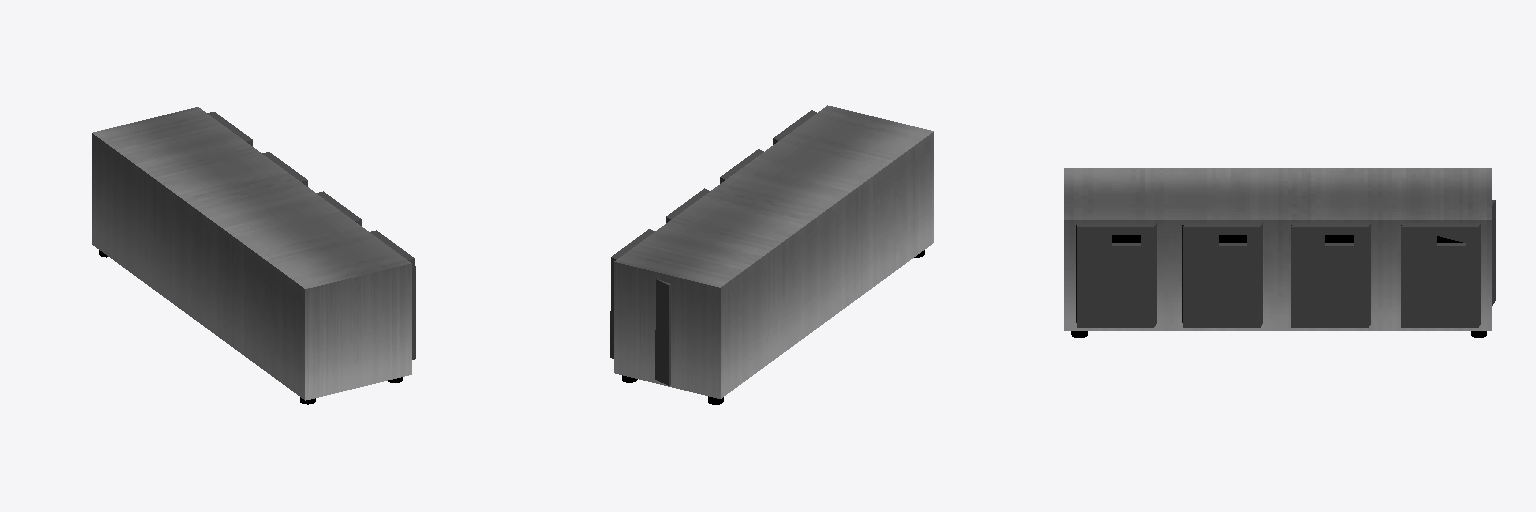
3 views of the same model, side by side, from view 1: azimuth 30°, elevation 25°; view 2: azimuth 150°, elevation 25°; view 3: azimuth 270°, elevation 25° (orthographic).
Visible parts, largest first — view 1: Cube_Cube.002, Cube.001_Cube.009; view 2: Cube_Cube.002, Cube.004_Cube.006; view 3: Cube_Cube.002, Cube.004_Cube.006, Cube.003_Cube.005, Cube.005_Cube.007, Cube.001_Cube.009.
Part boxes in pixels (bbox=[...]): Cube_Cube.002: bbox=[92, 107, 411, 400]; Cube.001_Cube.009: bbox=[370, 230, 415, 359]; Cube_Cube.002: bbox=[614, 105, 933, 398]; Cube.004_Cube.006: bbox=[610, 229, 670, 385]; Cube_Cube.002: bbox=[1064, 168, 1491, 330]; Cube.004_Cube.006: bbox=[1401, 200, 1495, 327]; Cube.003_Cube.005: bbox=[1183, 223, 1262, 327]; Cube.005_Cube.007: bbox=[1291, 223, 1370, 327]; Cube.001_Cube.009: bbox=[1077, 223, 1156, 327].
Size of the model in its own units: 3.48 by 3.42 by 11.14.
Materials: 17 (1 with a texture image).